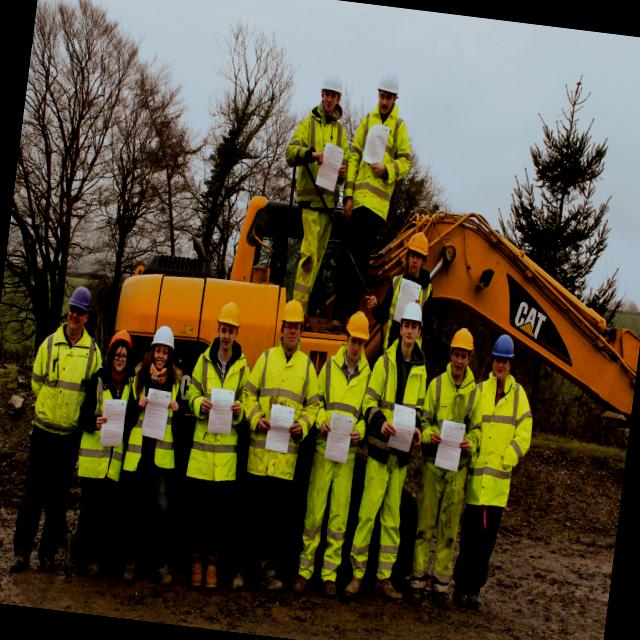goggles: (65, 300, 93, 322), (106, 346, 130, 365)
helmet: (62, 281, 98, 328), (102, 322, 138, 367), (370, 66, 405, 108), (213, 294, 249, 332), (341, 309, 376, 344), (394, 297, 428, 333), (278, 296, 310, 328), (447, 322, 477, 356), (403, 230, 434, 262), (318, 70, 346, 104), (490, 333, 518, 365), (150, 324, 180, 353)
no-goggles: (392, 318, 424, 342), (214, 323, 246, 346), (339, 330, 370, 353), (445, 342, 475, 365), (148, 341, 178, 364), (276, 319, 306, 339), (492, 352, 518, 373), (373, 89, 398, 108), (318, 88, 342, 106)
vest: (182, 349, 255, 486), (21, 325, 100, 451), (302, 338, 377, 470), (242, 348, 312, 484), (464, 376, 532, 514), (364, 342, 426, 476), (72, 364, 136, 490), (124, 362, 186, 488), (344, 108, 406, 224), (418, 371, 479, 482), (289, 110, 349, 220)
